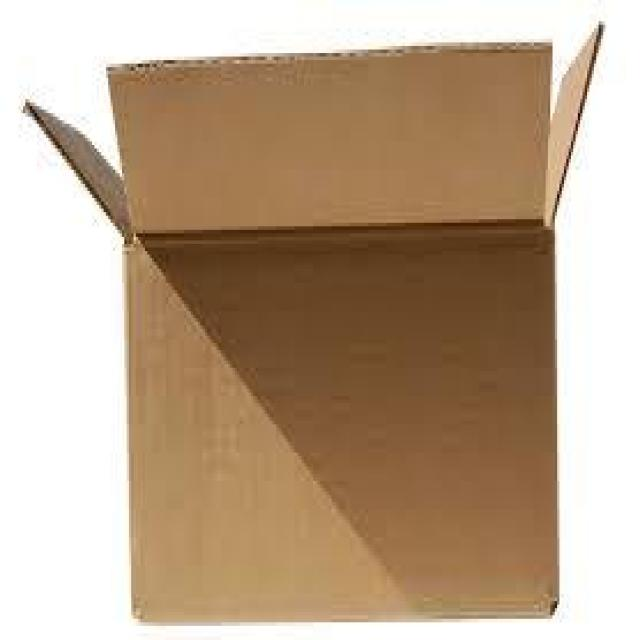-Recyclables - paper box-: (23, 19, 609, 620)
